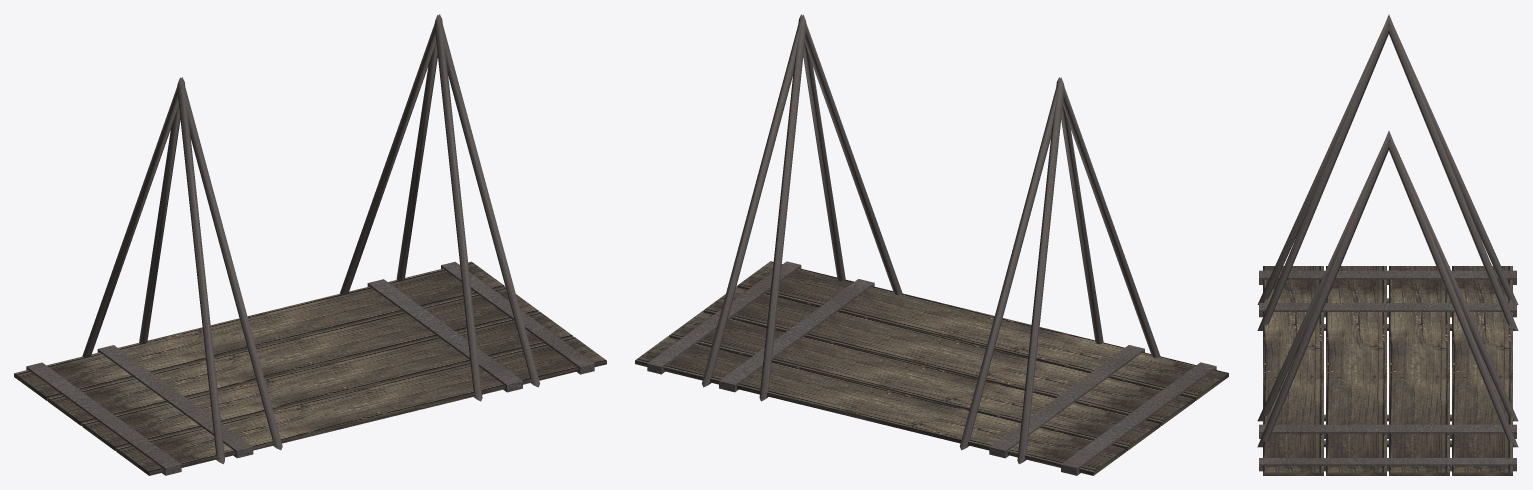
File: well_scaffold_03.FBX
3 views of the same model, side by side, from view 1: azimuth 30°, elevation 25°; view 2: azimuth 150°, elevation 25°; view 3: azimuth 270°, elevation 25° (orthographic). The views are drawn at different scales.
Parts seen in each view (by area): view 1: Object04, Line01, Box11; view 2: Object04, Line01, Box11; view 3: Object04, Line01, Box11.
Boxes of the visible parts, x1,y1,x2,y2 form: Object04: (14,261,606,475); Line01: (82,14,539,464); Box11: (26,261,594,475); Object04: (635,261,1228,475); Line01: (702,14,1160,464); Box11: (647,261,1216,475); Object04: (1263,266,1512,475); Line01: (1257,14,1518,447); Box11: (1259,270,1516,471).
Bounding box in the file's own units: 256 × 137 × 175.
